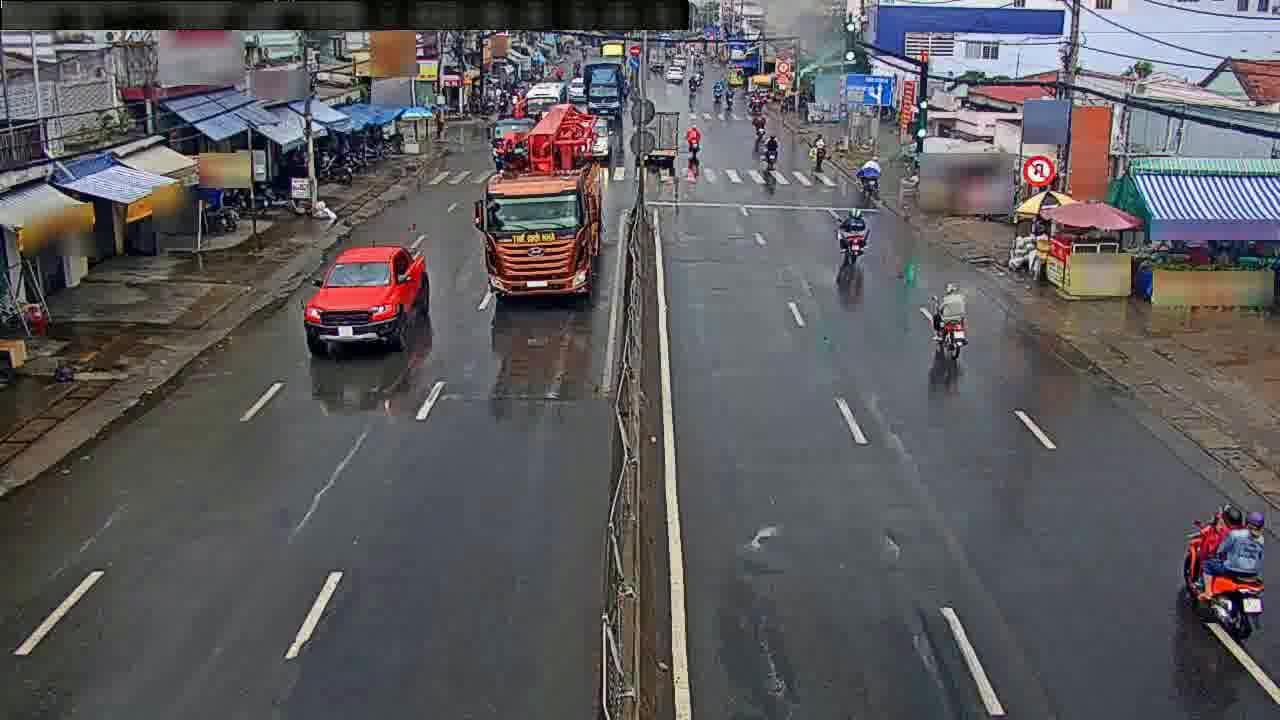8: (484, 132, 589, 297), (637, 108, 683, 164)
container: (300, 240, 434, 354), (565, 113, 617, 158), (660, 63, 686, 83), (671, 54, 689, 71)
motorbike: (1182, 496, 1265, 638), (921, 278, 977, 370), (834, 203, 865, 266), (856, 153, 880, 197), (763, 132, 784, 167), (810, 137, 829, 172), (688, 121, 703, 157)
